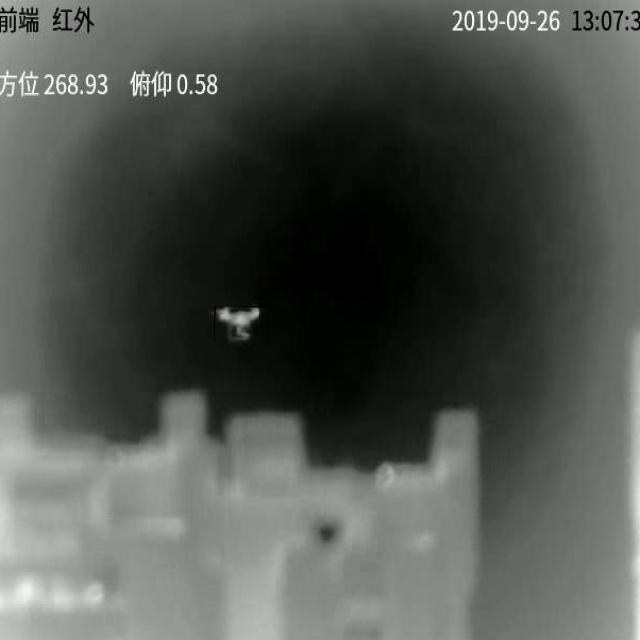drone: (215, 307, 259, 341)
